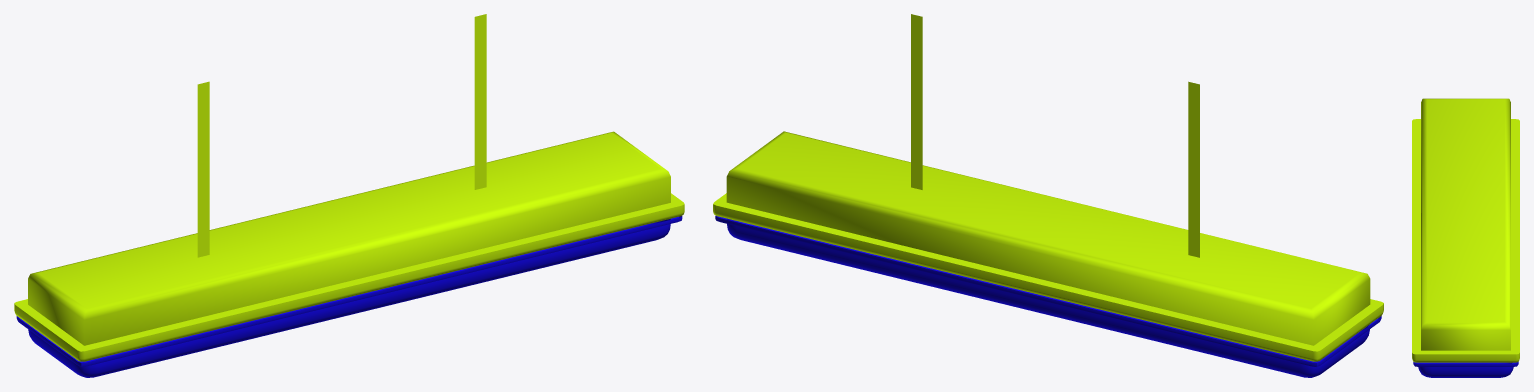
File: HangingLight.fbx
3 renders of one model, left to right at view 1: azimuth 30°, elevation 25°; view 2: azimuth 150°, elevation 25°; view 3: azimuth 270°, elevation 25°, orthographic. The views are drawn at different scales.
Visible parts, largest first — view 1: HangingLight; view 2: HangingLight; view 3: HangingLight.
Boxes of the visible parts, x1,y1,x2,y2 form: HangingLight: (14, 14, 684, 377); HangingLight: (713, 14, 1383, 377); HangingLight: (1412, 98, 1519, 377).
Bounding box in the file's own units: 3.1 × 1.19 × 0.6.
